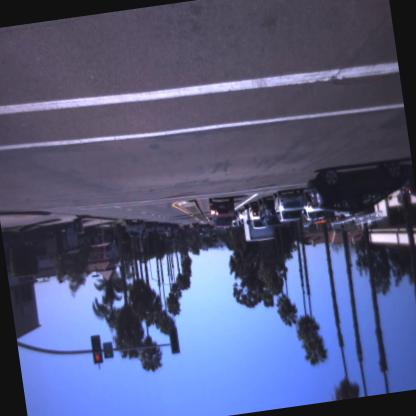trafficlight: (86, 326, 106, 370), (162, 320, 183, 358)
